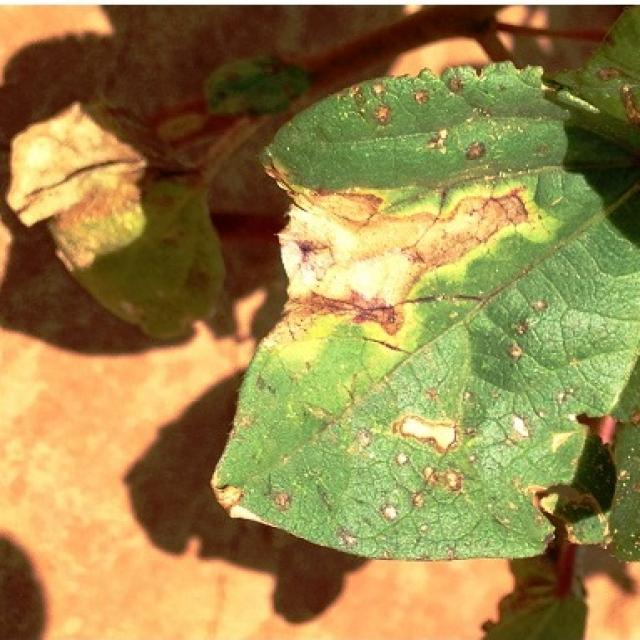Fusarium Wilt: (221, 54, 631, 588)
